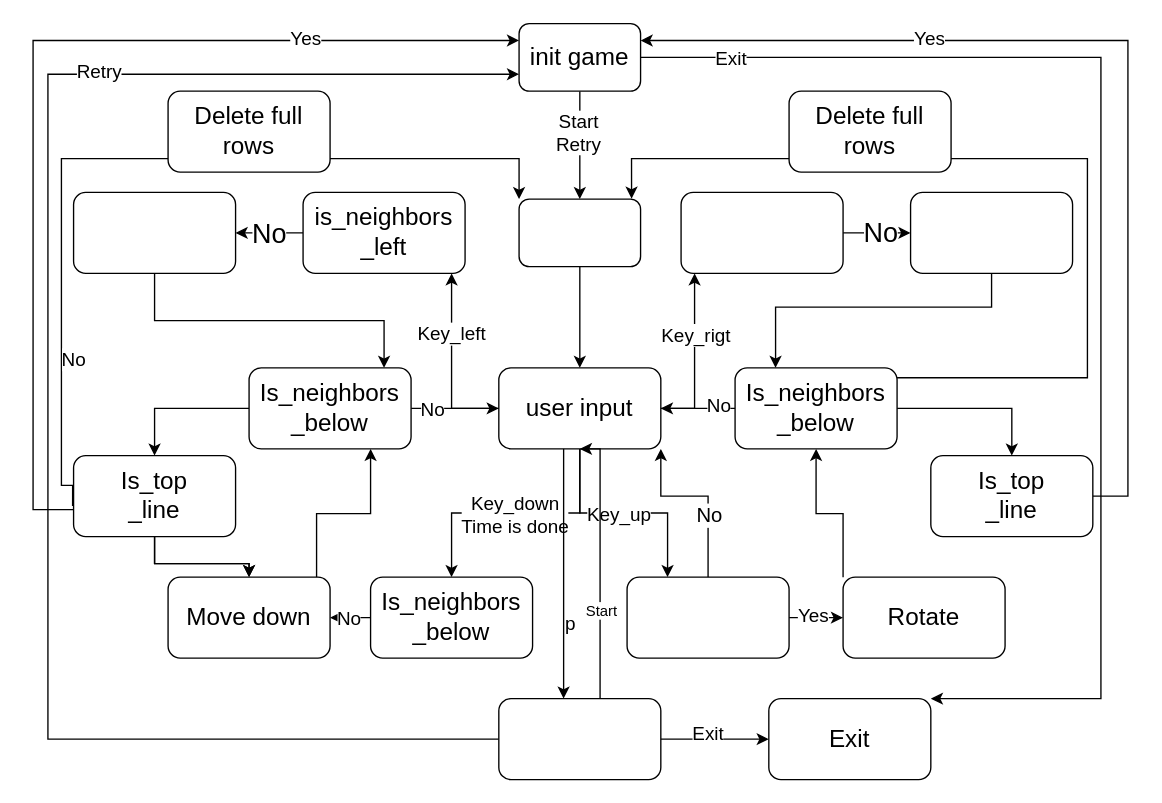
This 1162x803 diagram has some shape labels left out. Each missing label, with the centre of its shape:
"is_neighbors _right" goes at (x=761, y=232).
"Is_rotate _possible" goes at (x=707, y=617).
"Menu" goes at (x=579, y=738).
"Move left" goes at (x=154, y=232).
"Move right" goes at (x=991, y=232).
"Spawn" goes at (x=579, y=232).
